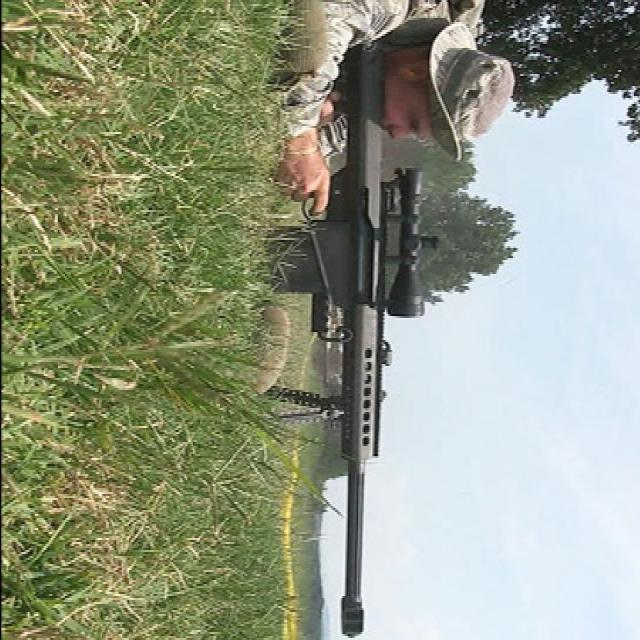rifle: (267, 35, 441, 639)
